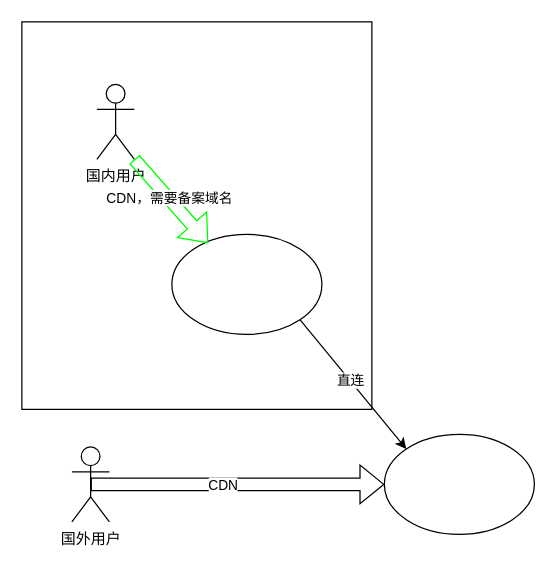
This 556x570 diagram has some shape labels left out. Each missing label, with the box of its shape:
国内节点: (171, 233, 322, 334)
海外服务器: (383, 433, 534, 534)
